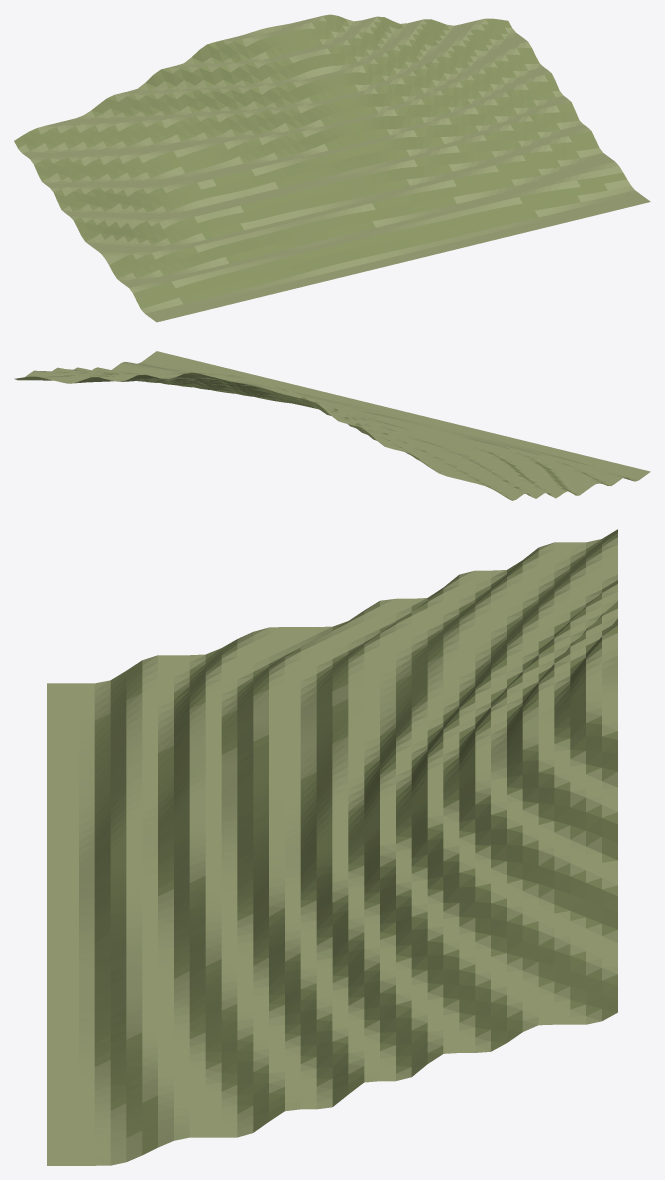
Rendered from hill_backdrop.glb.
3 views of the same model, one above another, from view 1: azimuth 30°, elevation 25°; view 2: azimuth 150°, elevation 25°; view 3: azimuth 270°, elevation 25° (orthographic). The views are drawn at different scales.
Parts seen in each view (by area): view 1: hill_backdrop; view 2: hill_backdrop; view 3: hill_backdrop.
Part boxes in pixels (x1=…): hill_backdrop: x1=14, y1=14, x2=650, y2=322; hill_backdrop: x1=14, y1=351, x2=650, y2=500; hill_backdrop: x1=47, y1=529, x2=617, y2=1165.
Size of the model in its own units: 220 by 54.6 by 110.
